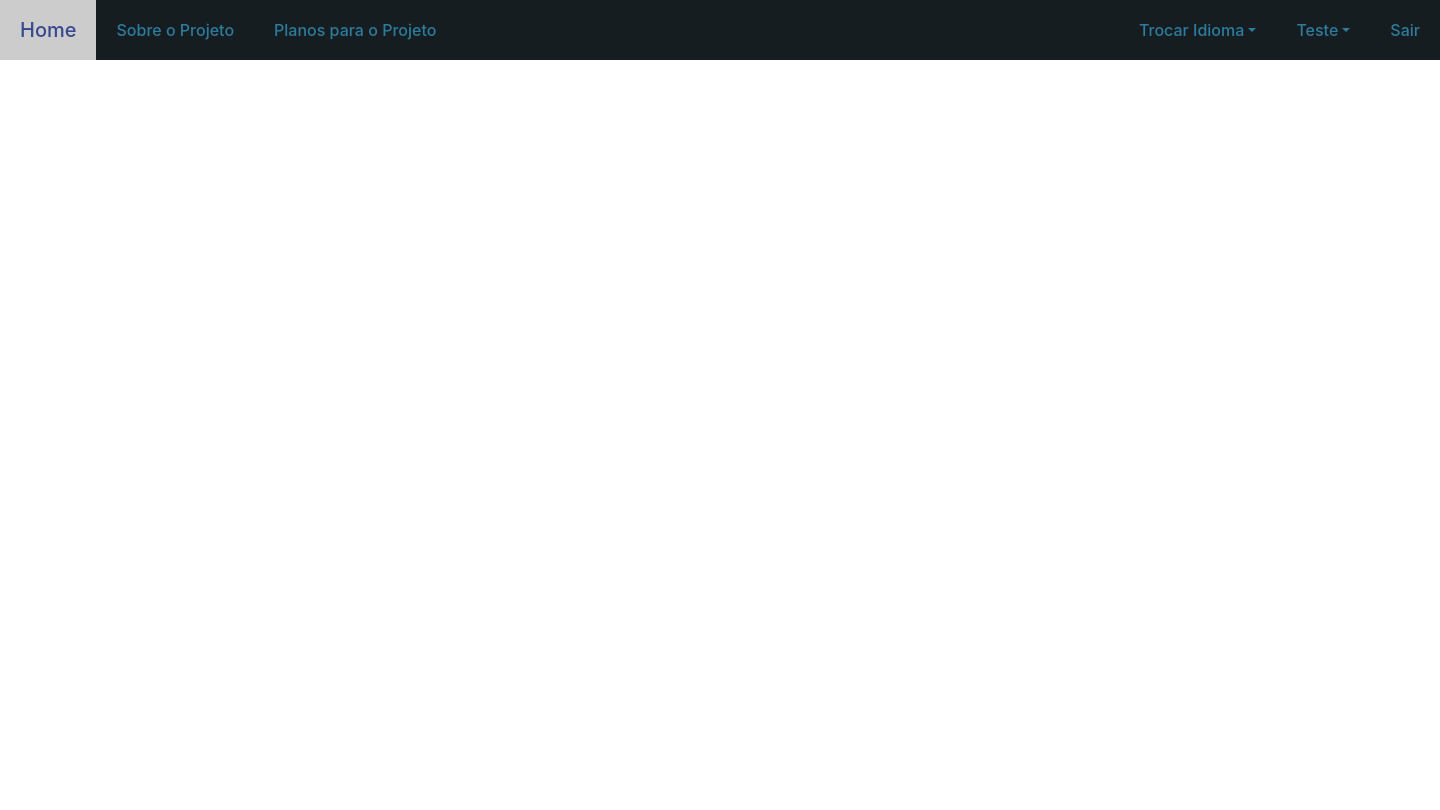
Test: should render the modal when authenticated user presses 'delete account' option
Note: Clica no botão do dropdown
Click the button "Teste". click: (1323, 30)
box: [1276,0,1370,60]
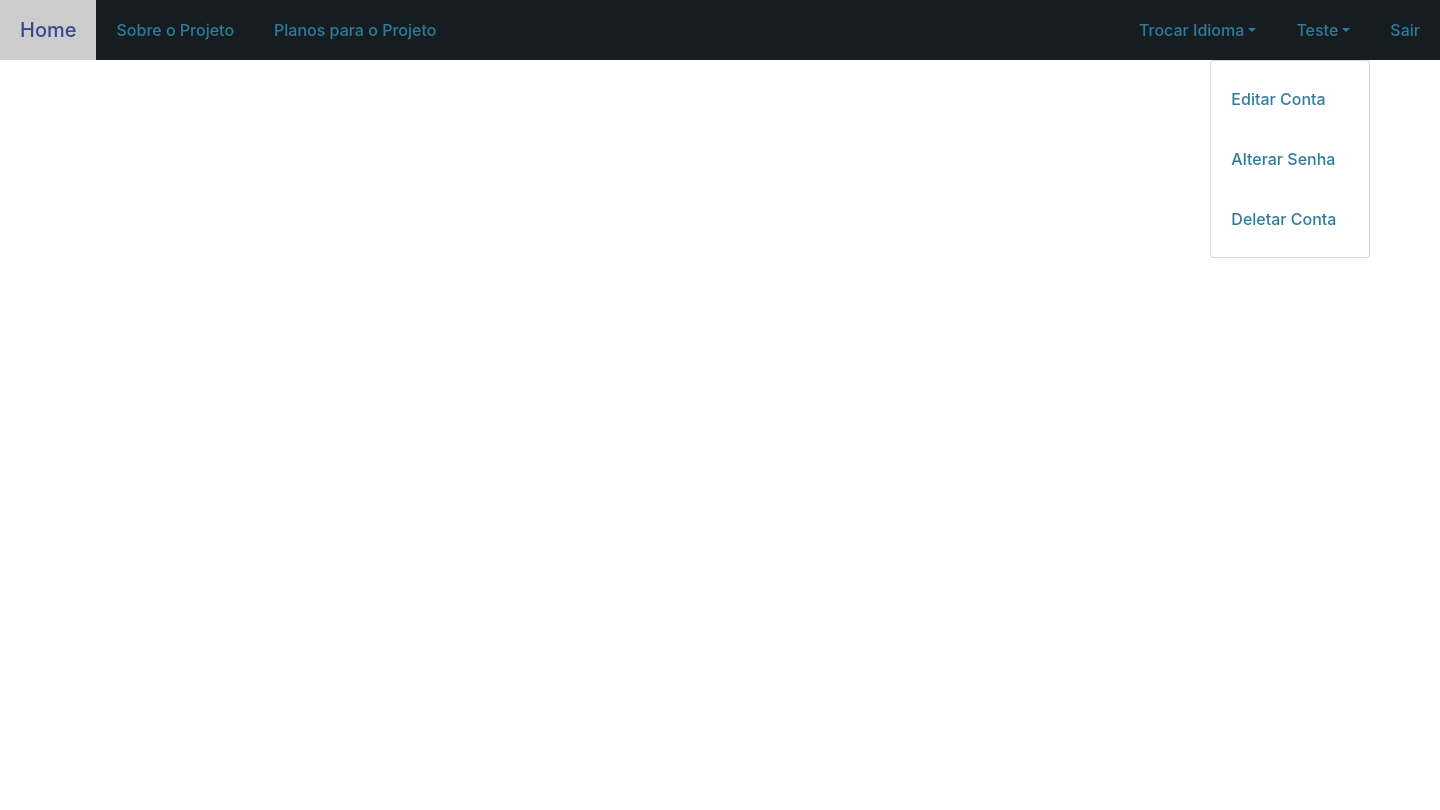
Note: Clica no item deletar conta
Click the button "Deletar Conta". click: (1284, 219)
box: [1231,209,1336,229]
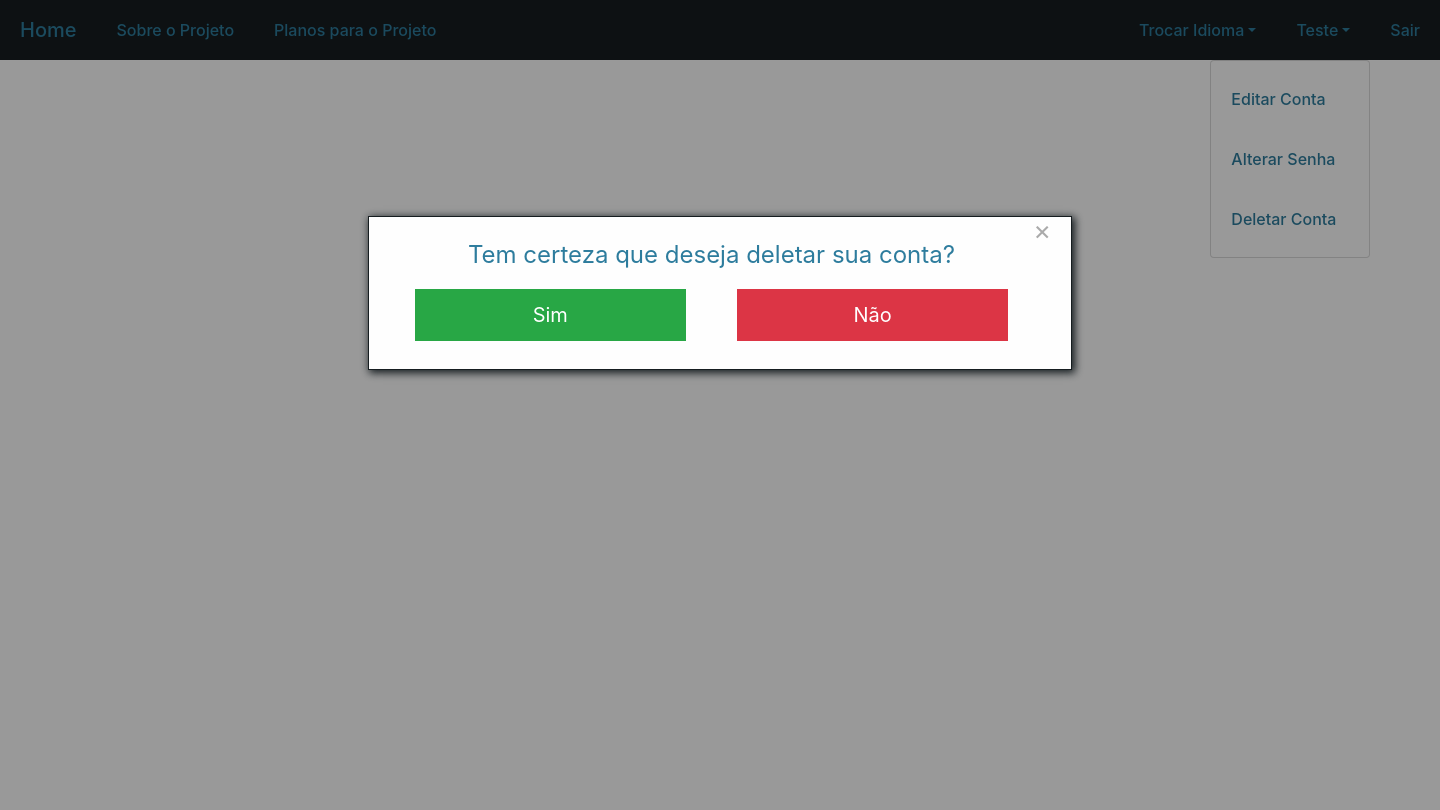
Now the element with test id "modal" is shown
